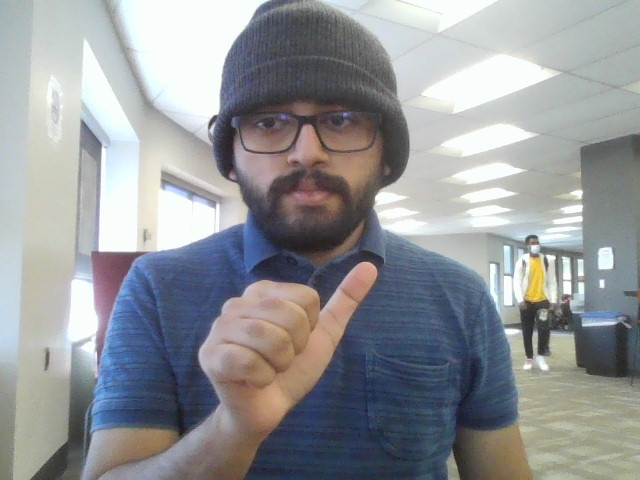start: (196, 242, 388, 442)
